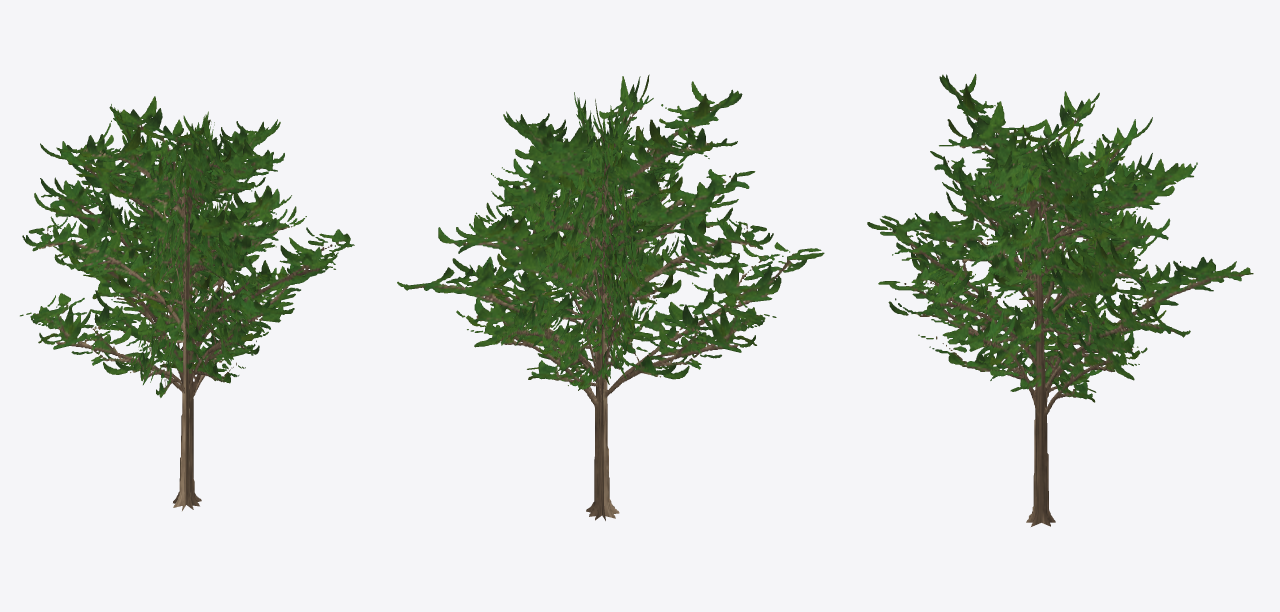
Rendered from asset.glb.
3 renders of one model, left to right at view 1: azimuth 30°, elevation 25°; view 2: azimuth 150°, elevation 25°; view 3: azimuth 270°, elevation 25°, orthographic. The views are drawn at different scales.
Parts seen in each view (by area): view 1: BackgroundTree; view 2: BackgroundTree; view 3: BackgroundTree.
Boxes of the visible parts, bbox=[...] form: BackgroundTree: bbox=[20, 96, 354, 510]; BackgroundTree: bbox=[397, 74, 824, 520]; BackgroundTree: bbox=[867, 74, 1253, 526].
Bounding box in the file's own units: 1.82 × 2.2 × 1.91.
1 material, 1 textured.
